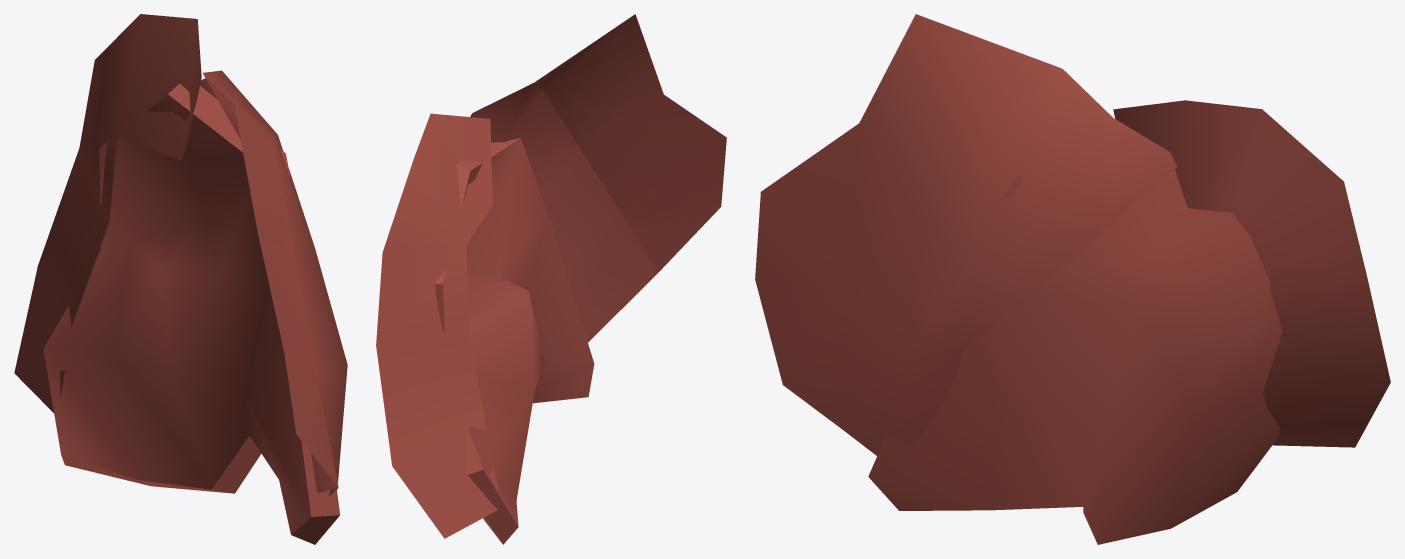
The model's file is fx_char_gib_chunk_flesh02.glb.
3 renders of one model, left to right at view 1: azimuth 30°, elevation 25°; view 2: azimuth 150°, elevation 25°; view 3: azimuth 270°, elevation 25°, orthographic. The views are drawn at different scales.
Parts seen in each view (by area): view 1: fx_char_gib_chunk_flesh02; view 2: fx_char_gib_chunk_flesh02; view 3: fx_char_gib_chunk_flesh02.
Boxes of the visible parts, bbox=[...] form: fx_char_gib_chunk_flesh02: bbox=[14, 14, 347, 544]; fx_char_gib_chunk_flesh02: bbox=[376, 14, 726, 544]; fx_char_gib_chunk_flesh02: bbox=[755, 14, 1390, 544].
Size of the model in its own units: 1.42 by 4.56 by 5.32.
